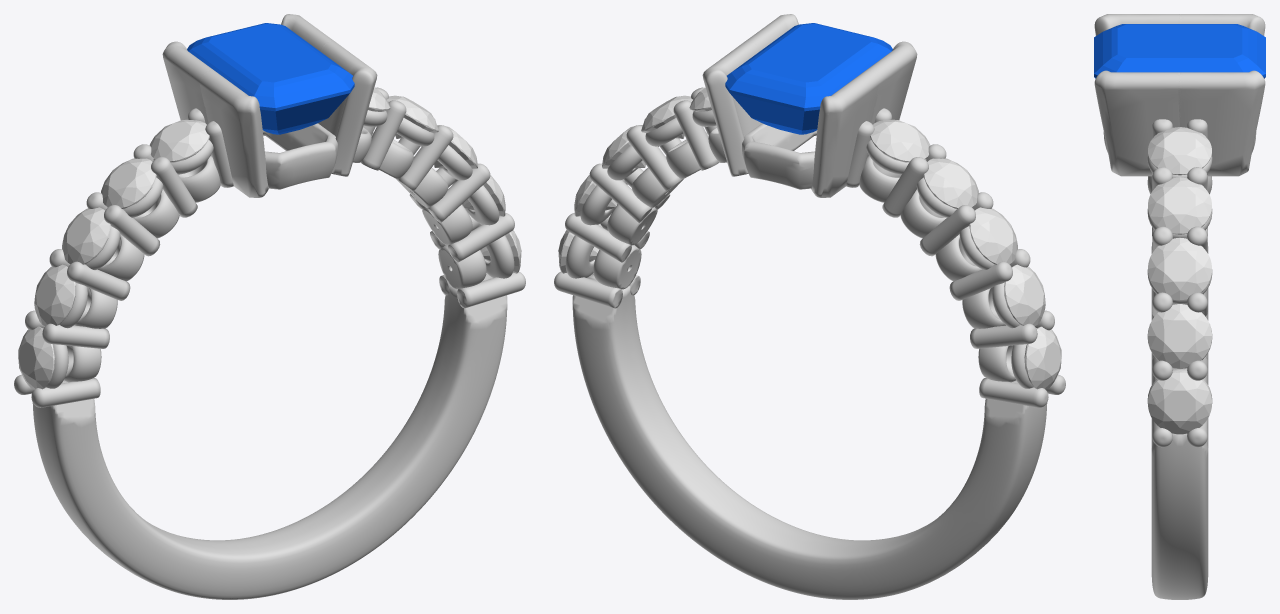
The model's file is bluesapphire-emerald-platinum-halfmoonbezel-straightband-11stone.glb.
The picture shows the model from 3 angles, left to right: view 1: azimuth 30°, elevation 25°; view 2: azimuth 150°, elevation 25°; view 3: azimuth 270°, elevation 25°; orthographic projection.
Visible parts, largest first — view 1: metal.003, stone.002, side.024, side.025, side.023, side.026, side.002, side.028; view 2: metal.003, stone.002, side.024, side.025, side.023, side.026, side.002, side.028; view 3: metal.003, stone.002, side.030, side.031, side.029, side.028, side.027.
Part boxes in pixels (x1,y1,x2,y2): metal.003: [14, 14, 525, 599]; stone.002: [187, 23, 354, 134]; side.024: [62, 207, 110, 264]; side.025: [101, 158, 156, 208]; side.023: [34, 264, 75, 325]; side.026: [149, 119, 209, 162]; side.002: [18, 326, 55, 389]; side.028: [387, 95, 438, 138]; metal.003: [554, 14, 1065, 599]; stone.002: [725, 23, 892, 134]; side.024: [969, 207, 1017, 264]; side.025: [923, 158, 978, 208]; side.023: [1004, 264, 1045, 325]; side.026: [870, 119, 930, 162]; side.002: [1024, 326, 1061, 389]; side.028: [641, 95, 692, 138]; metal.003: [1094, 14, 1265, 599]; stone.002: [1094, 24, 1265, 78]; side.030: [1148, 304, 1211, 368]; side.031: [1148, 371, 1211, 434]; side.029: [1148, 238, 1211, 300]; side.028: [1148, 177, 1211, 234]; side.027: [1148, 127, 1211, 175].
Size of the model in its own units: 22.03 by 22.95 by 6.69.
